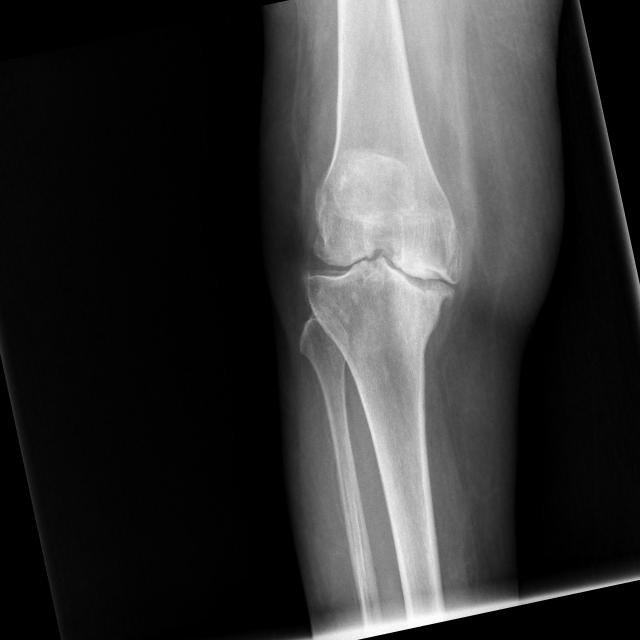Knee: (290, 198, 482, 354)
